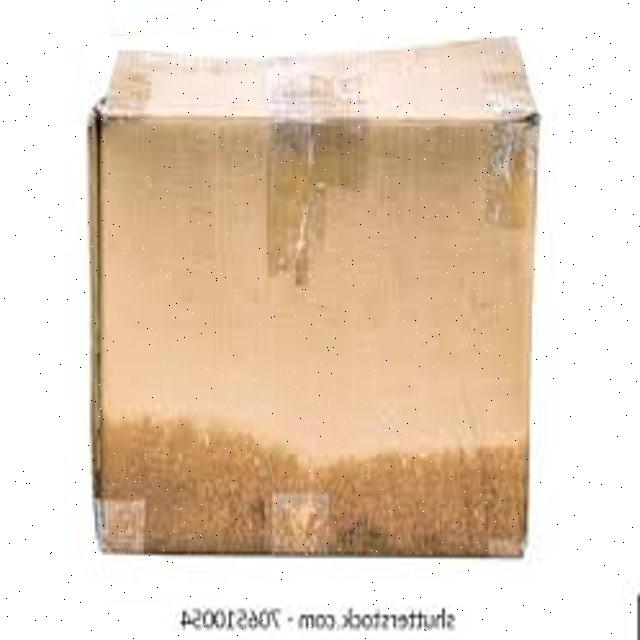defect: (84, 36, 543, 566)
